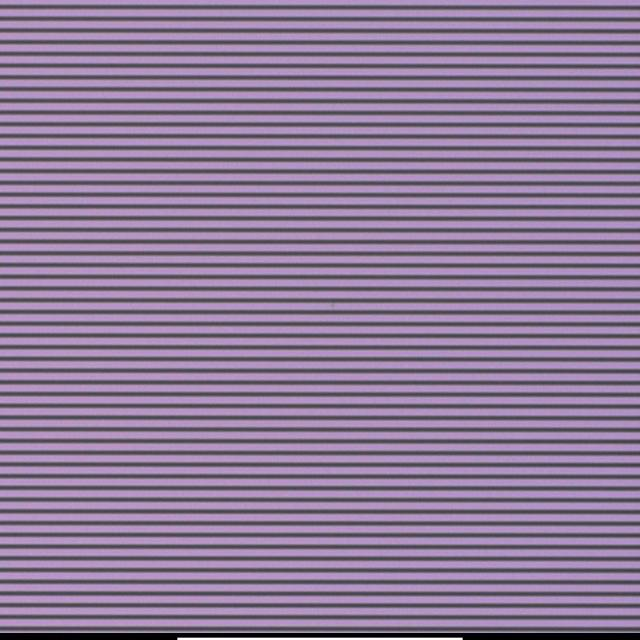nonvisual: (329, 299, 339, 311)
